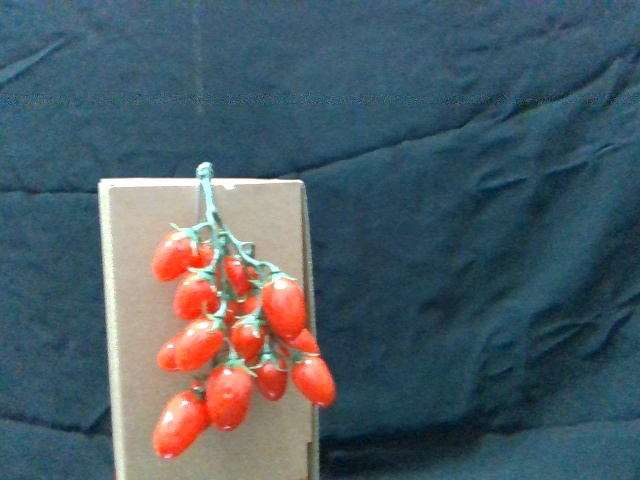tomato: (152, 384, 205, 460), (259, 270, 307, 343), (207, 362, 252, 432), (176, 314, 224, 370), (289, 353, 335, 406), (175, 269, 223, 318), (158, 226, 198, 282), (251, 350, 289, 402), (229, 313, 266, 362)
